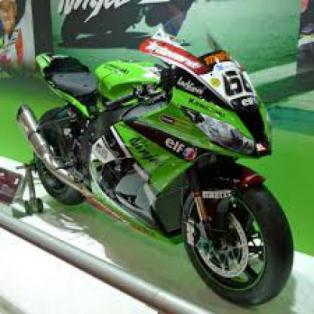Motocicleta: (16, 38, 300, 306)
